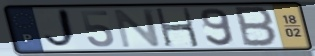5: (78, 9, 117, 48)
9: (199, 7, 235, 48)
B: (233, 5, 279, 49)
H: (153, 7, 202, 49)
J: (42, 7, 81, 51)
N: (112, 7, 164, 49)
